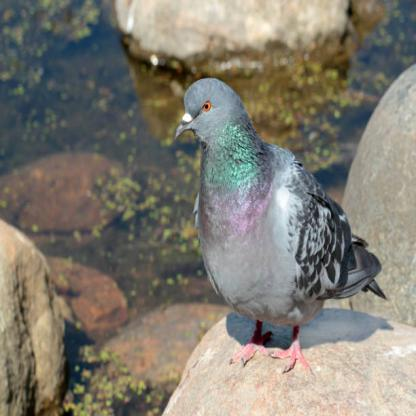Rock Pigeon: (174, 74, 377, 349)
